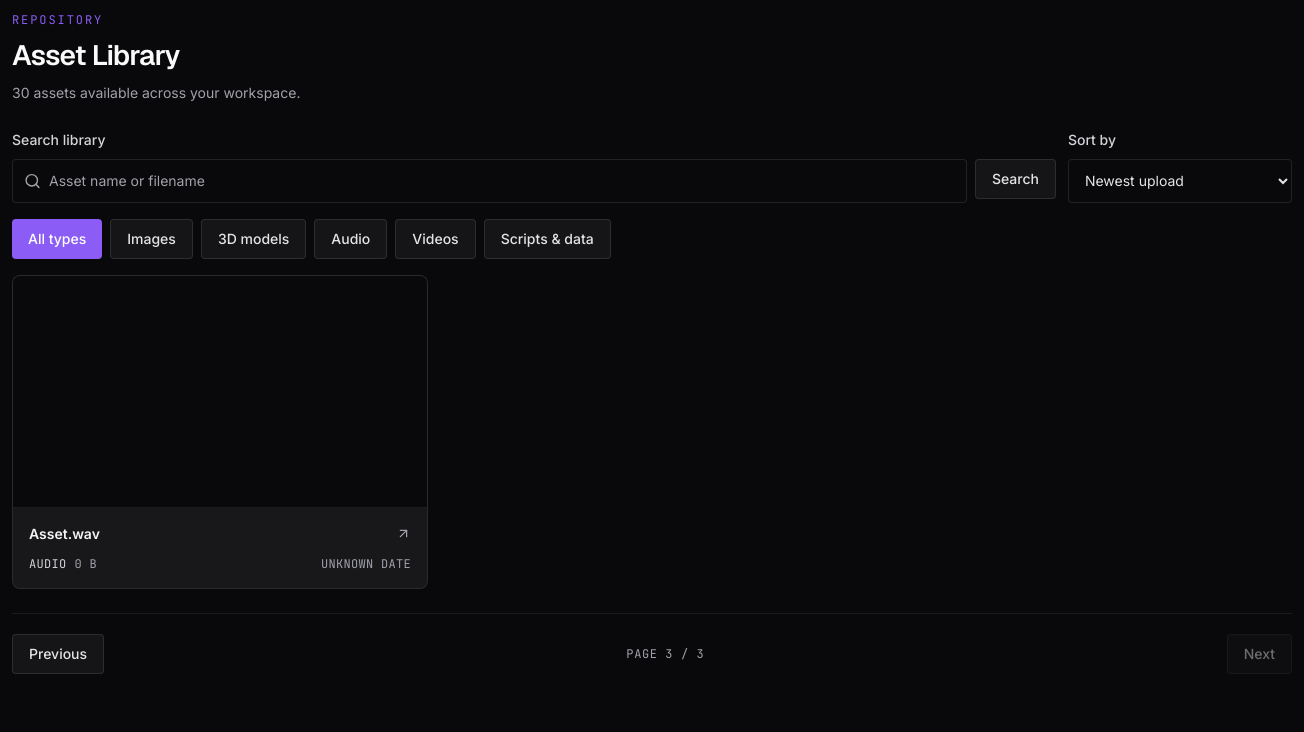
Scenario: filtering resets pagination, and opening an asset preserves its filtered library page
Later steps or results of the test are not shown.
Expected: the link with aria-label "Open Asset.wav" is shown, [12,274,428,589]
Click the button "Images" at x=152, y=238, box [110,218,193,258]
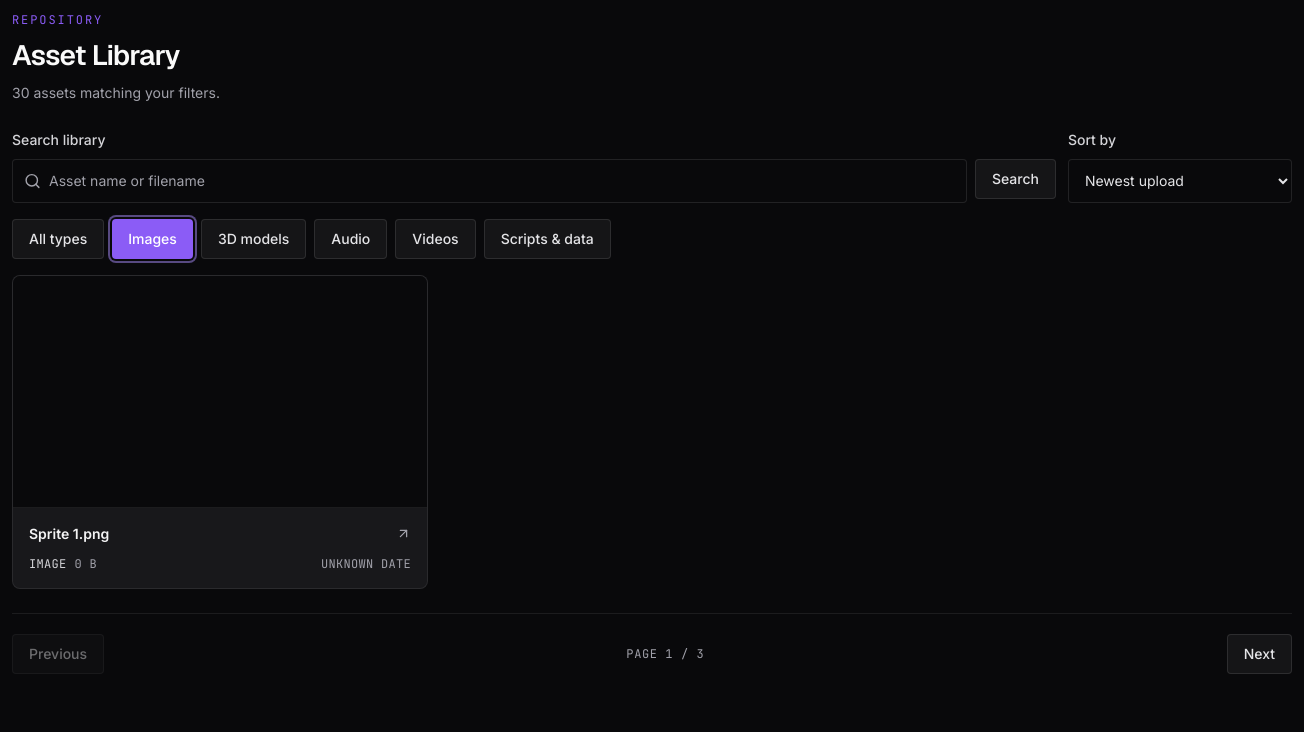
Expected: the link with aria-label "Open Sprite 1.png" is shown, [12,274,428,589]
